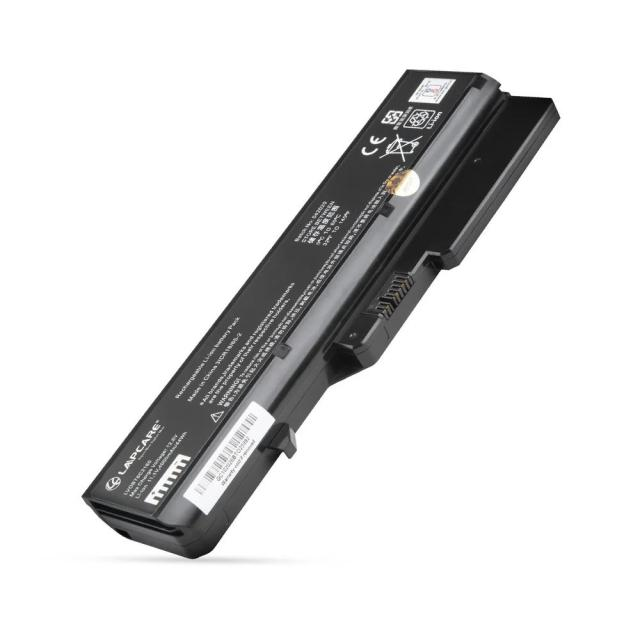electronic: (4, 2, 592, 619)
